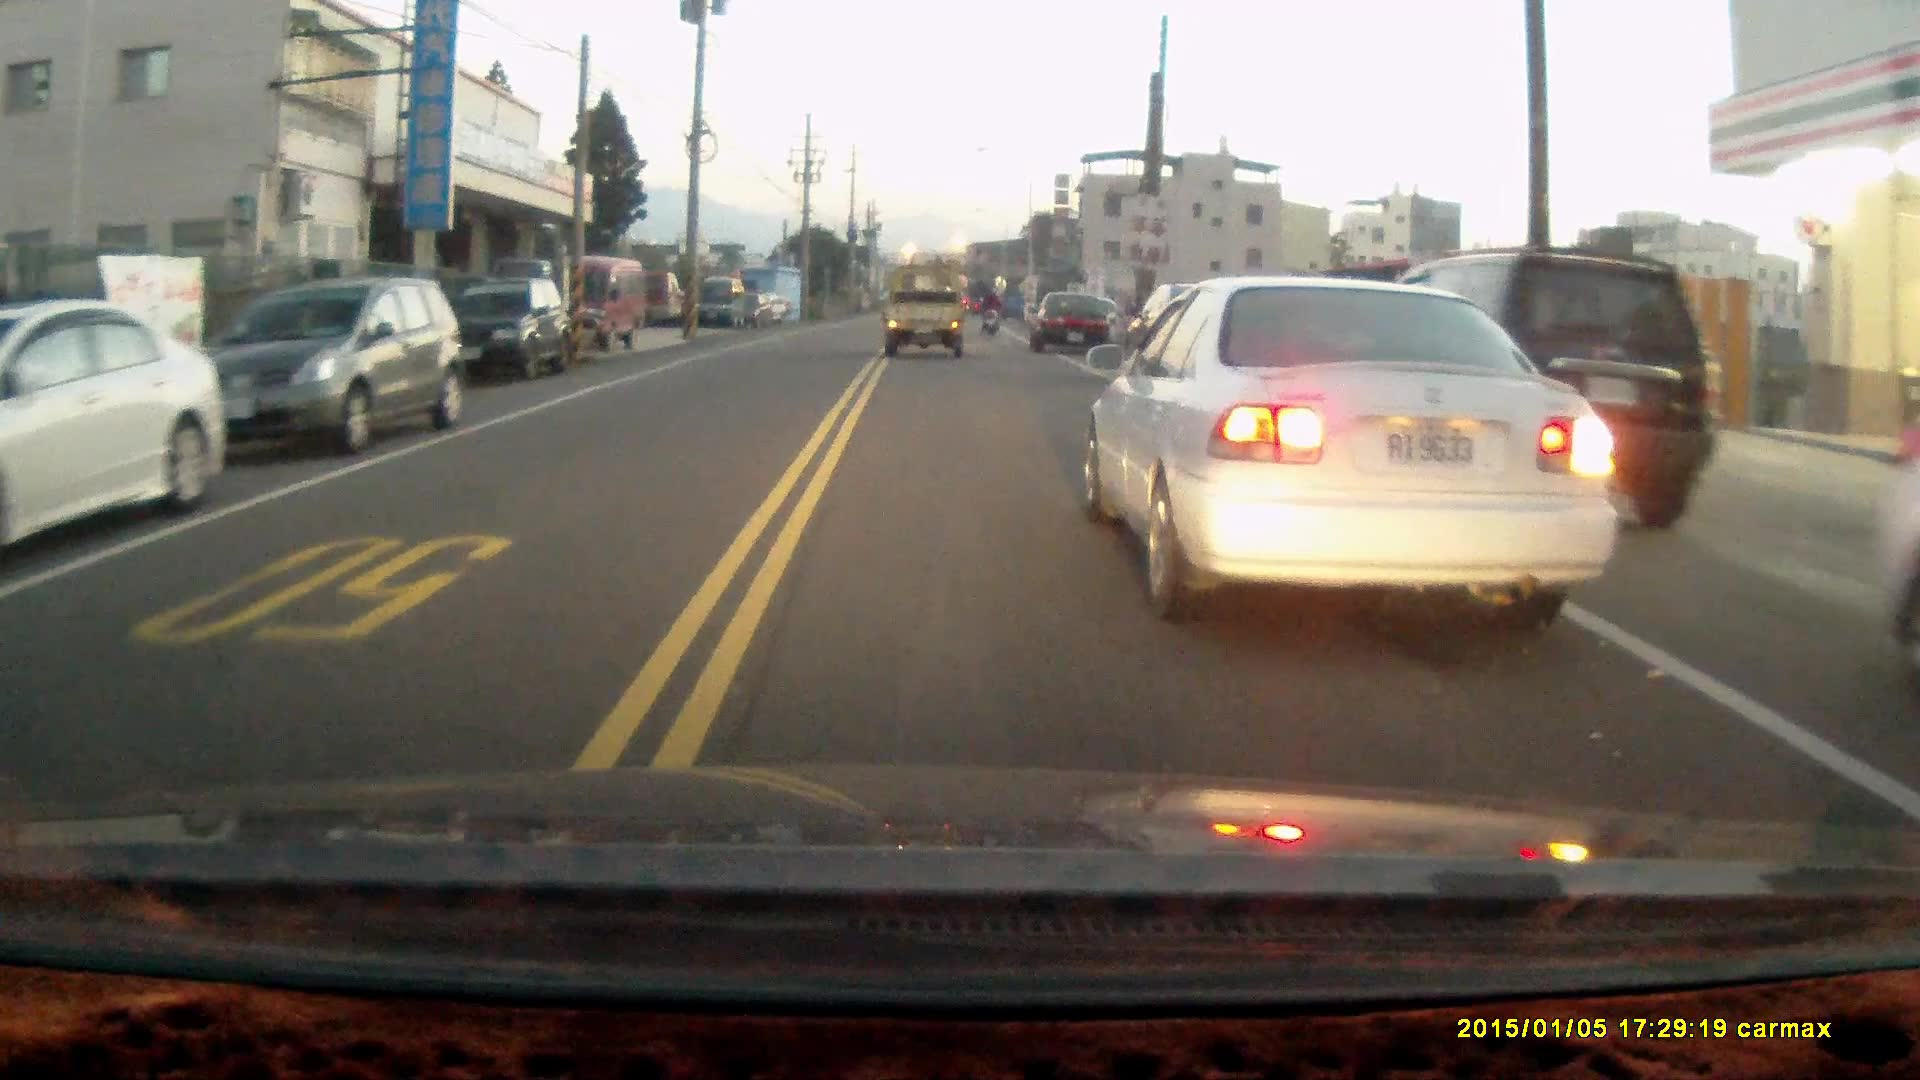rider: (978, 288, 1005, 336)
vehicle: (1091, 269, 1617, 618), (1385, 246, 1721, 530), (3, 301, 228, 544), (200, 277, 467, 455), (457, 278, 580, 383), (542, 258, 649, 352), (889, 267, 973, 366), (1031, 291, 1122, 355), (693, 279, 750, 333)
